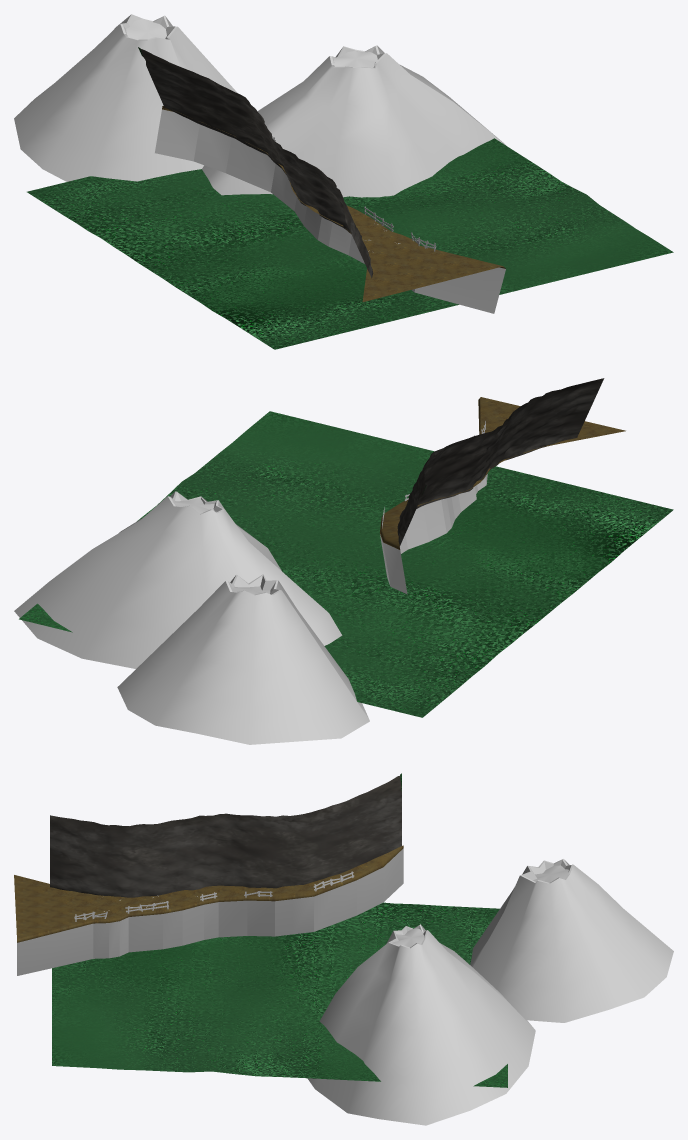
Rendered from 328_bg_volcano.fbx.
3 renders of one model, top to bottom at view 1: azimuth 30°, elevation 25°; view 2: azimuth 150°, elevation 25°; view 3: azimuth 270°, elevation 25°, orthographic. The views are drawn at different scales.
Visible parts, largest first — view 1: forest, polySurface5, polySurface2, polySurface1, kabe, polySurface3, polySurface4; view 2: forest, polySurface2, polySurface5, kabe, polySurface1; view 3: forest, polySurface5, kabe, polySurface1, polySurface2.
Boxes of the visible parts, <box> form: forest: <box>27,138,673,349</box>; polySurface5: <box>202,45,506,197</box>; polySurface2: <box>14,14,237,181</box>; polySurface1: <box>155,106,505,313</box>; kabe: <box>138,47,373,278</box>; polySurface3: <box>126,19,166,39</box>; polySurface4: <box>333,51,377,67</box>; forest: <box>19,411,673,717</box>; polySurface2: <box>117,574,369,744</box>; polySurface5: <box>14,491,342,668</box>; kabe: <box>397,378,604,546</box>; polySurface1: <box>380,397,625,594</box>; forest: <box>52,902,507,1087</box>; polySurface5: <box>307,924,535,1125</box>; kabe: <box>50,773,401,897</box>; polySurface1: <box>14,845,403,975</box>; polySurface2: <box>470,859,673,1022</box>.
Bounding box in the file's own units: 8485 × 4002 × 12196.
